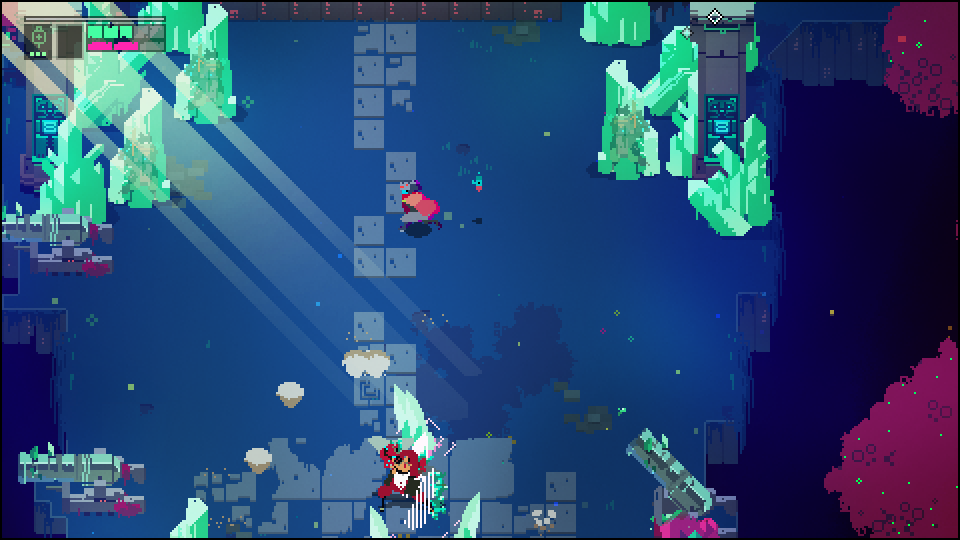hanged_crys: (390, 383, 442, 454)
hanged_man: (362, 430, 435, 512)
player: (392, 178, 441, 236)
